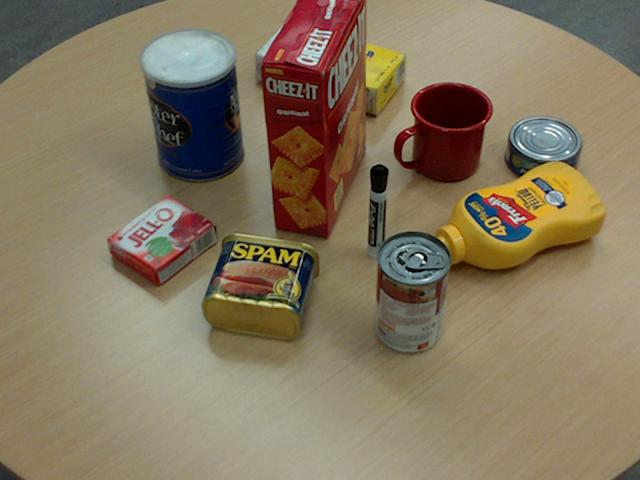cracker_box: (259, 0, 367, 237)
gelatin_box: (106, 193, 215, 284)
large_marker: (368, 164, 388, 258)
master_chef_can: (140, 28, 243, 182)
mug: (394, 81, 492, 180)
mustard_bottle: (424, 161, 604, 269)
potted_meat_can: (201, 232, 318, 338)
sugar_box: (254, 21, 406, 114)
tomato_soup_can: (374, 230, 450, 352)
tuna_fish_can: (504, 115, 580, 182)
